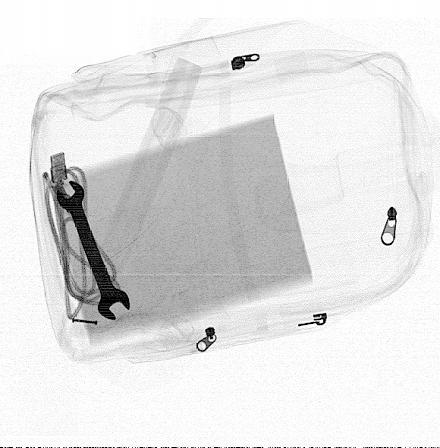Wrench: (56, 178, 131, 322)
